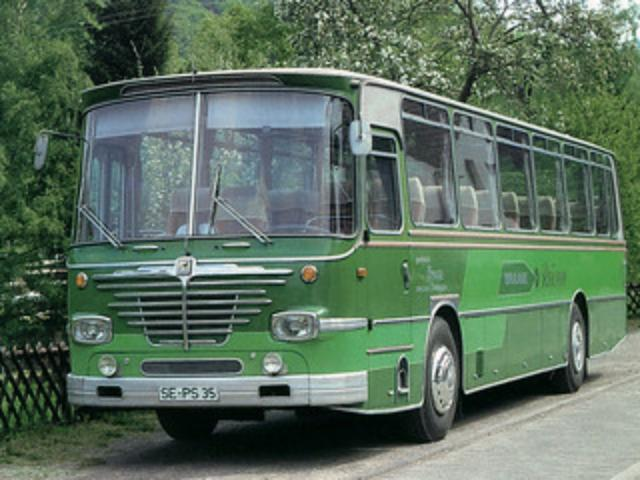bus: (64, 66, 628, 442)
